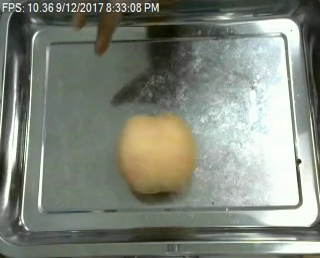Peach: (117, 112, 196, 196)
